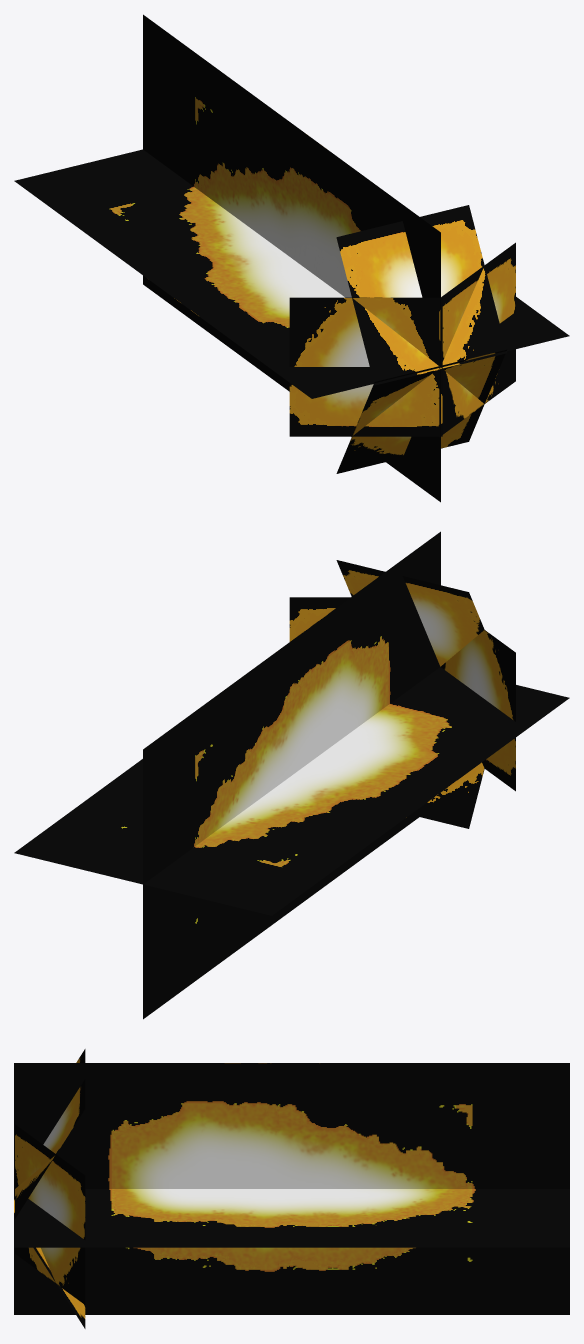
File: muzzle_flash.glb
3 views of the same model, one above another, from view 1: azimuth 30°, elevation 25°; view 2: azimuth 150°, elevation 25°; view 3: azimuth 270°, elevation 25° (orthographic). The views are drawn at different scales.
Visible parts, largest first — view 1: Plane; view 2: Plane; view 3: Plane.
Boxes of the visible parts, <box> form: Plane: <box>14,14,569,502</box>; Plane: <box>14,531,569,1019</box>; Plane: <box>14,1049,569,1328</box>.
Size of the model in its own units: 1 by 1 by 2.
Materials: 1 (1 with a texture image).
